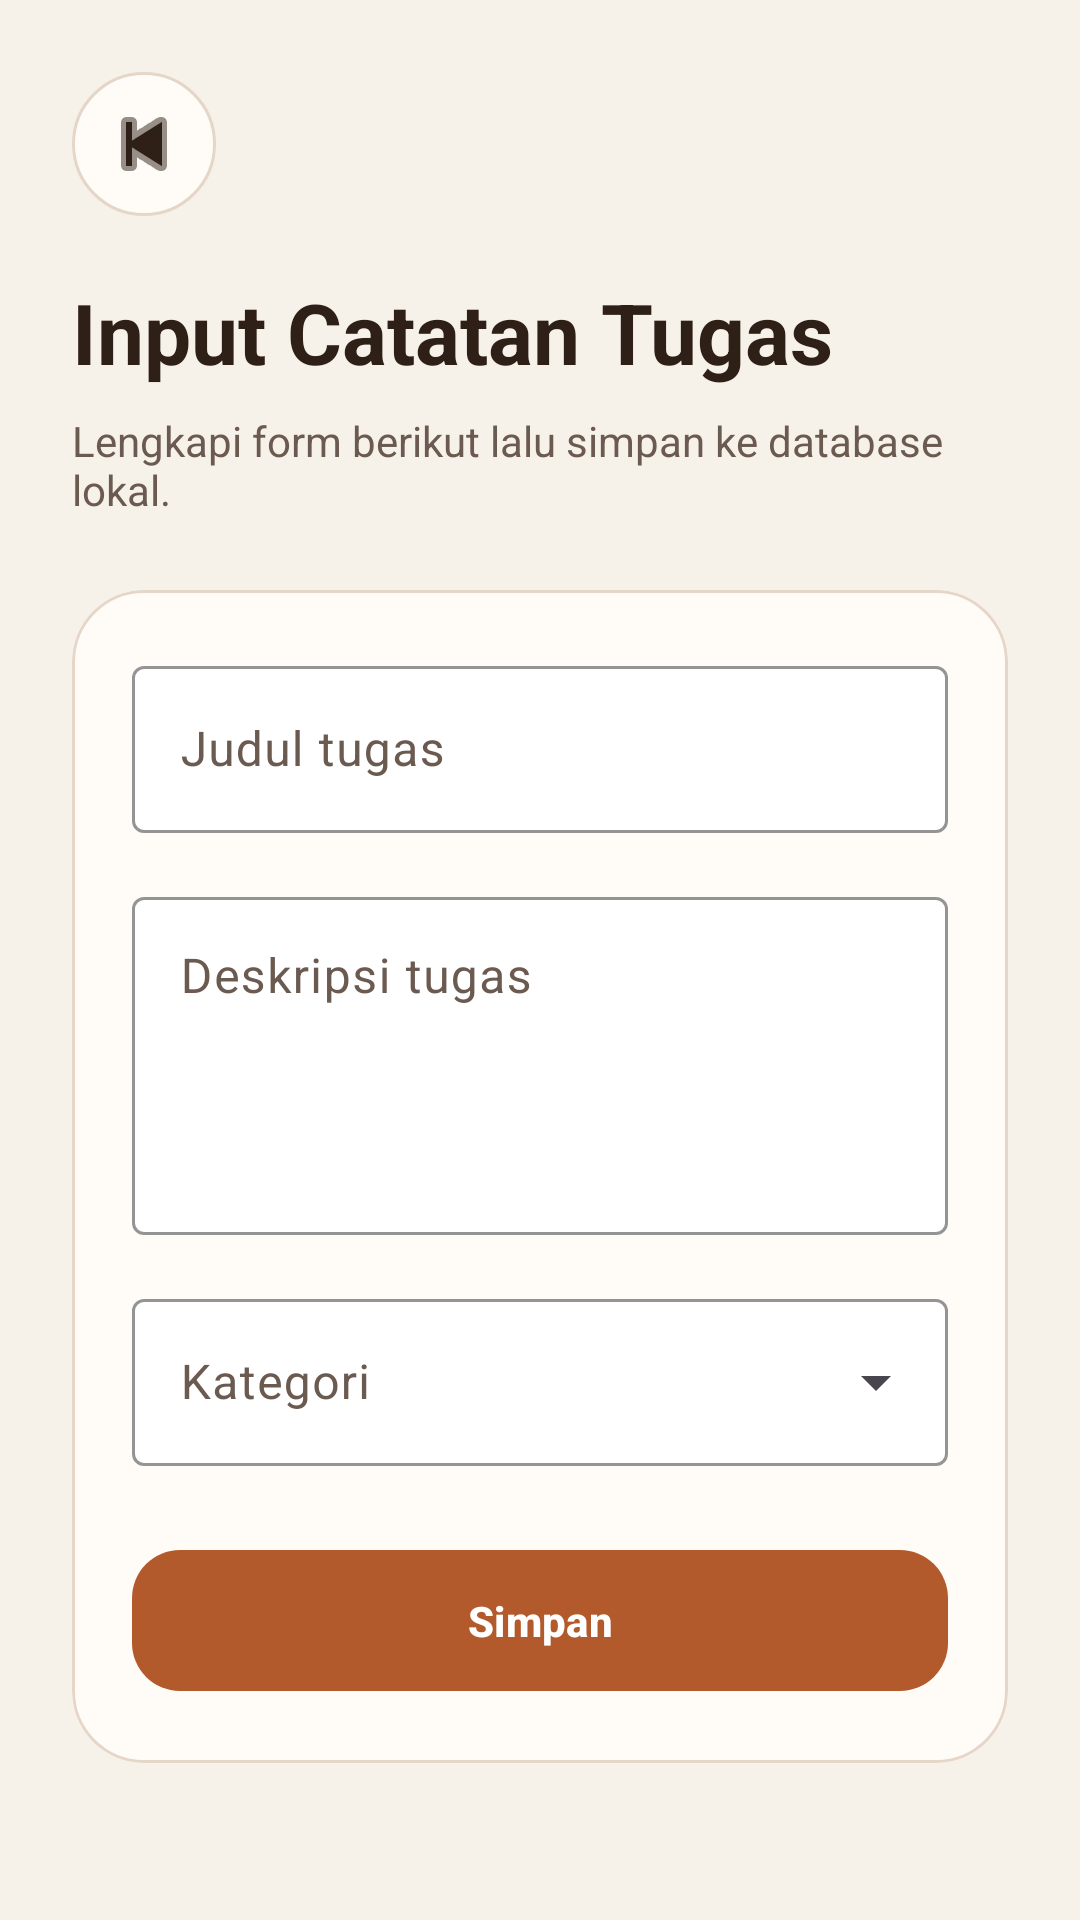

Locate icon controls on the screen. Image size 1080*1920, boxes as (x1, y1, x2, y2).
Kembali: (72, 72, 216, 216)
